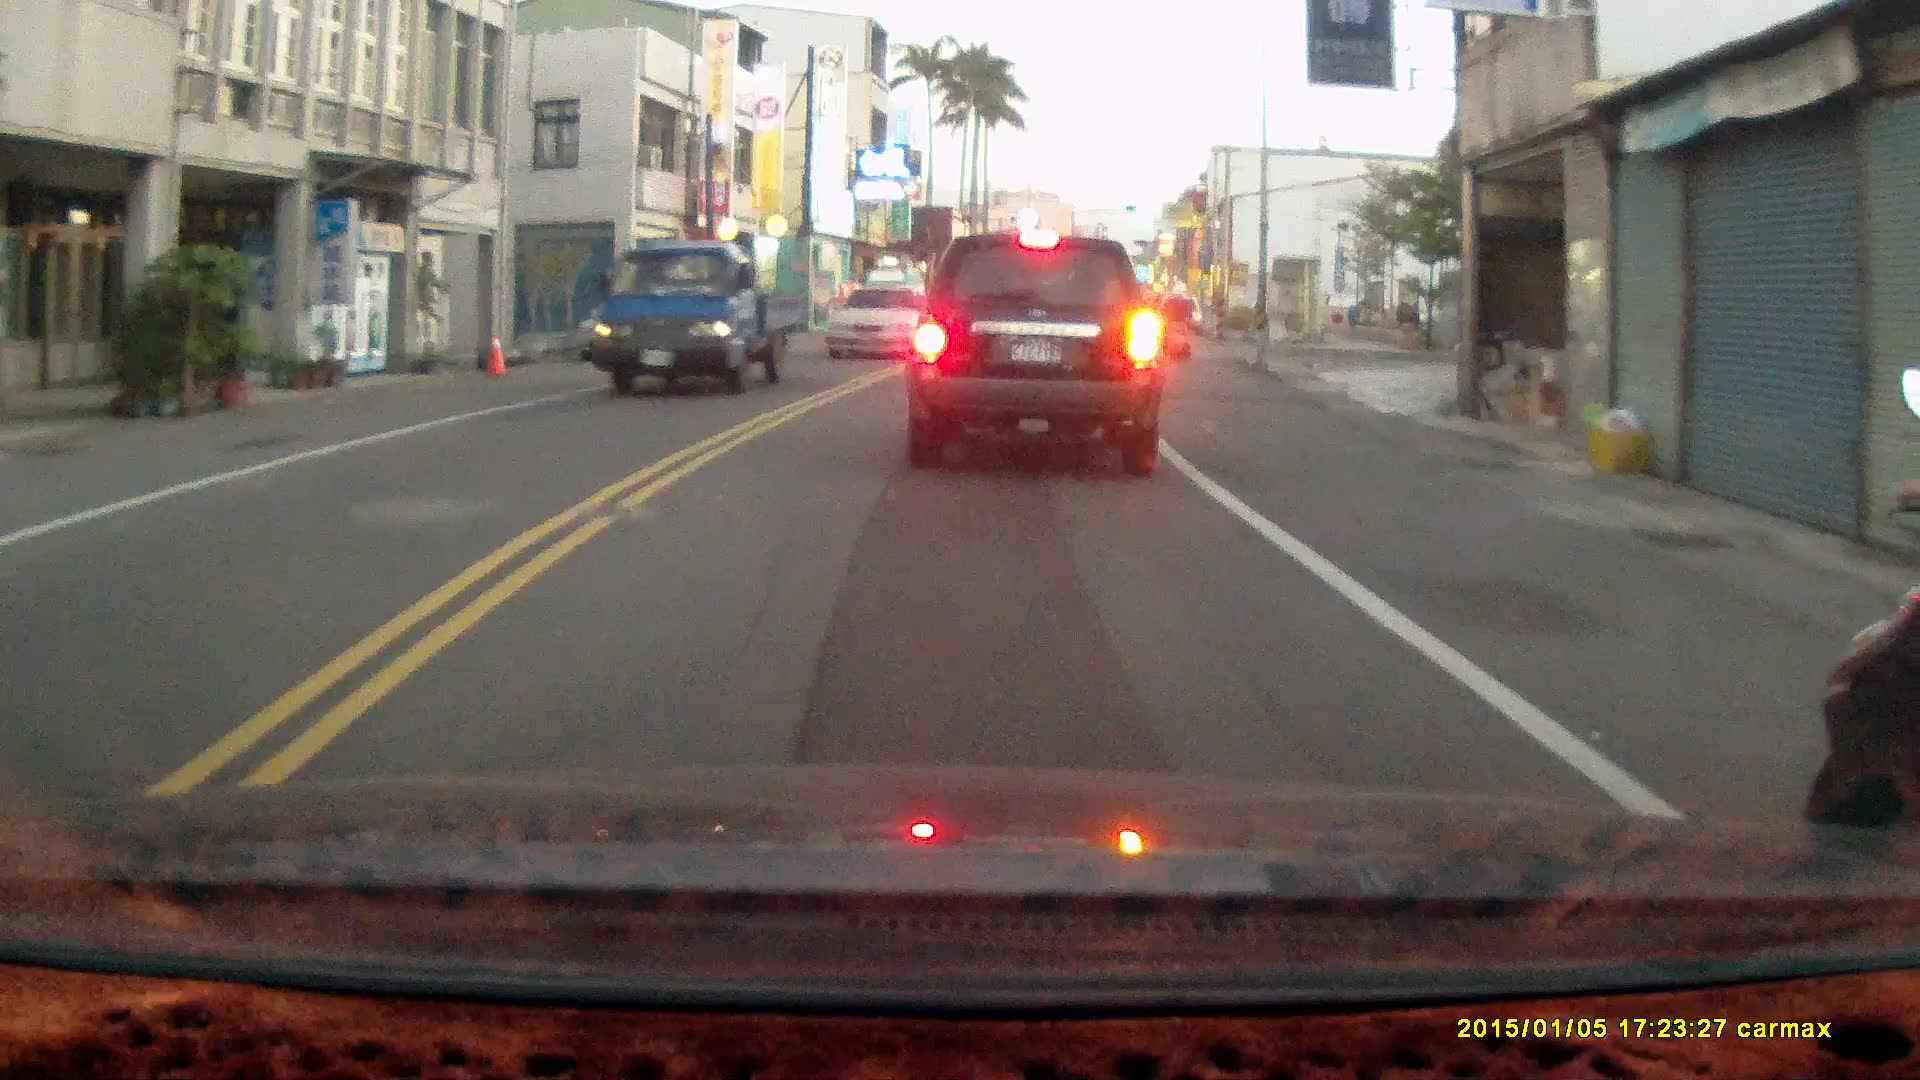rider: (1160, 281, 1191, 364)
vehicle: (906, 229, 1169, 477), (579, 233, 808, 392), (828, 282, 940, 362)
